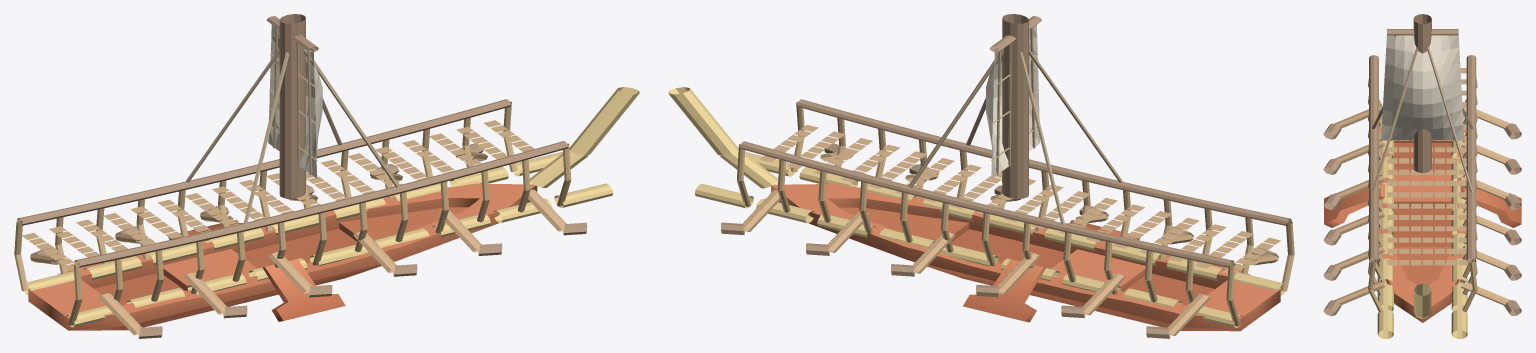
File: nile_papyrus-custom.glb
The picture shows the model from 3 angles, left to right: view 1: azimuth 30°, elevation 25°; view 2: azimuth 150°, elevation 25°; view 3: azimuth 270°, elevation 25°; orthographic projection. The views are drawn at different scales.
Parts seen in each view (by area): view 1: nile_papyrus-custom-geometry, boat-row-small, paddles; view 2: nile_papyrus-custom-geometry, boat-row-small, paddles; view 3: nile_papyrus-custom-geometry, boat-row-small, paddles.
Part boxes in pixels (x1,y1,x2,y2): nile_papyrus-custom-geometry: (14, 14, 639, 338); boat-row-small: (28, 183, 537, 330); paddles: (168, 219, 345, 321); nile_papyrus-custom-geometry: (668, 14, 1294, 338); boat-row-small: (771, 184, 1280, 331); paddles: (963, 220, 1140, 322); nile_papyrus-custom-geometry: (1323, 14, 1521, 338); boat-row-small: (1377, 127, 1468, 322); paddles: (1324, 182, 1521, 227).
Size of the model in its own units: 20.58 by 8.27 by 6.98.
7 materials, 1 textured.
